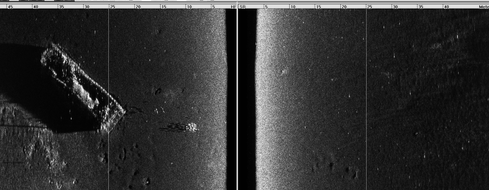ship: (37, 42, 126, 133)
